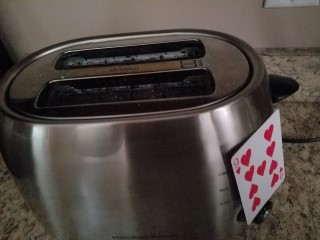NineOfHearts: (231, 110, 286, 225)
